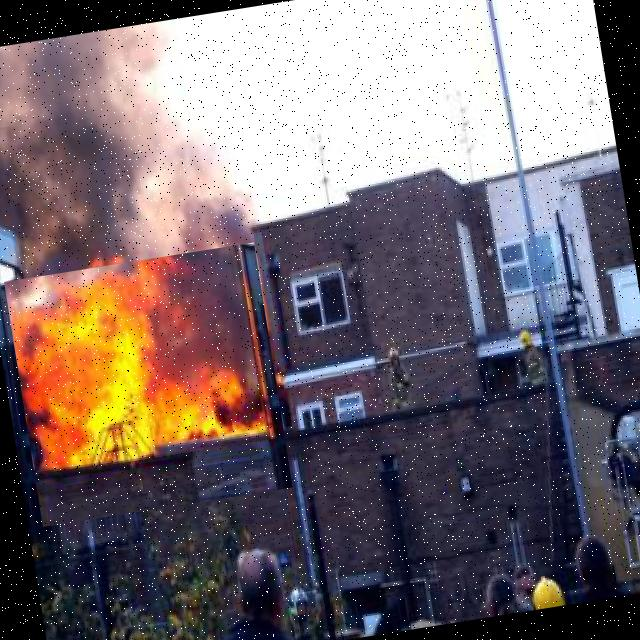fire: (4, 242, 293, 527)
